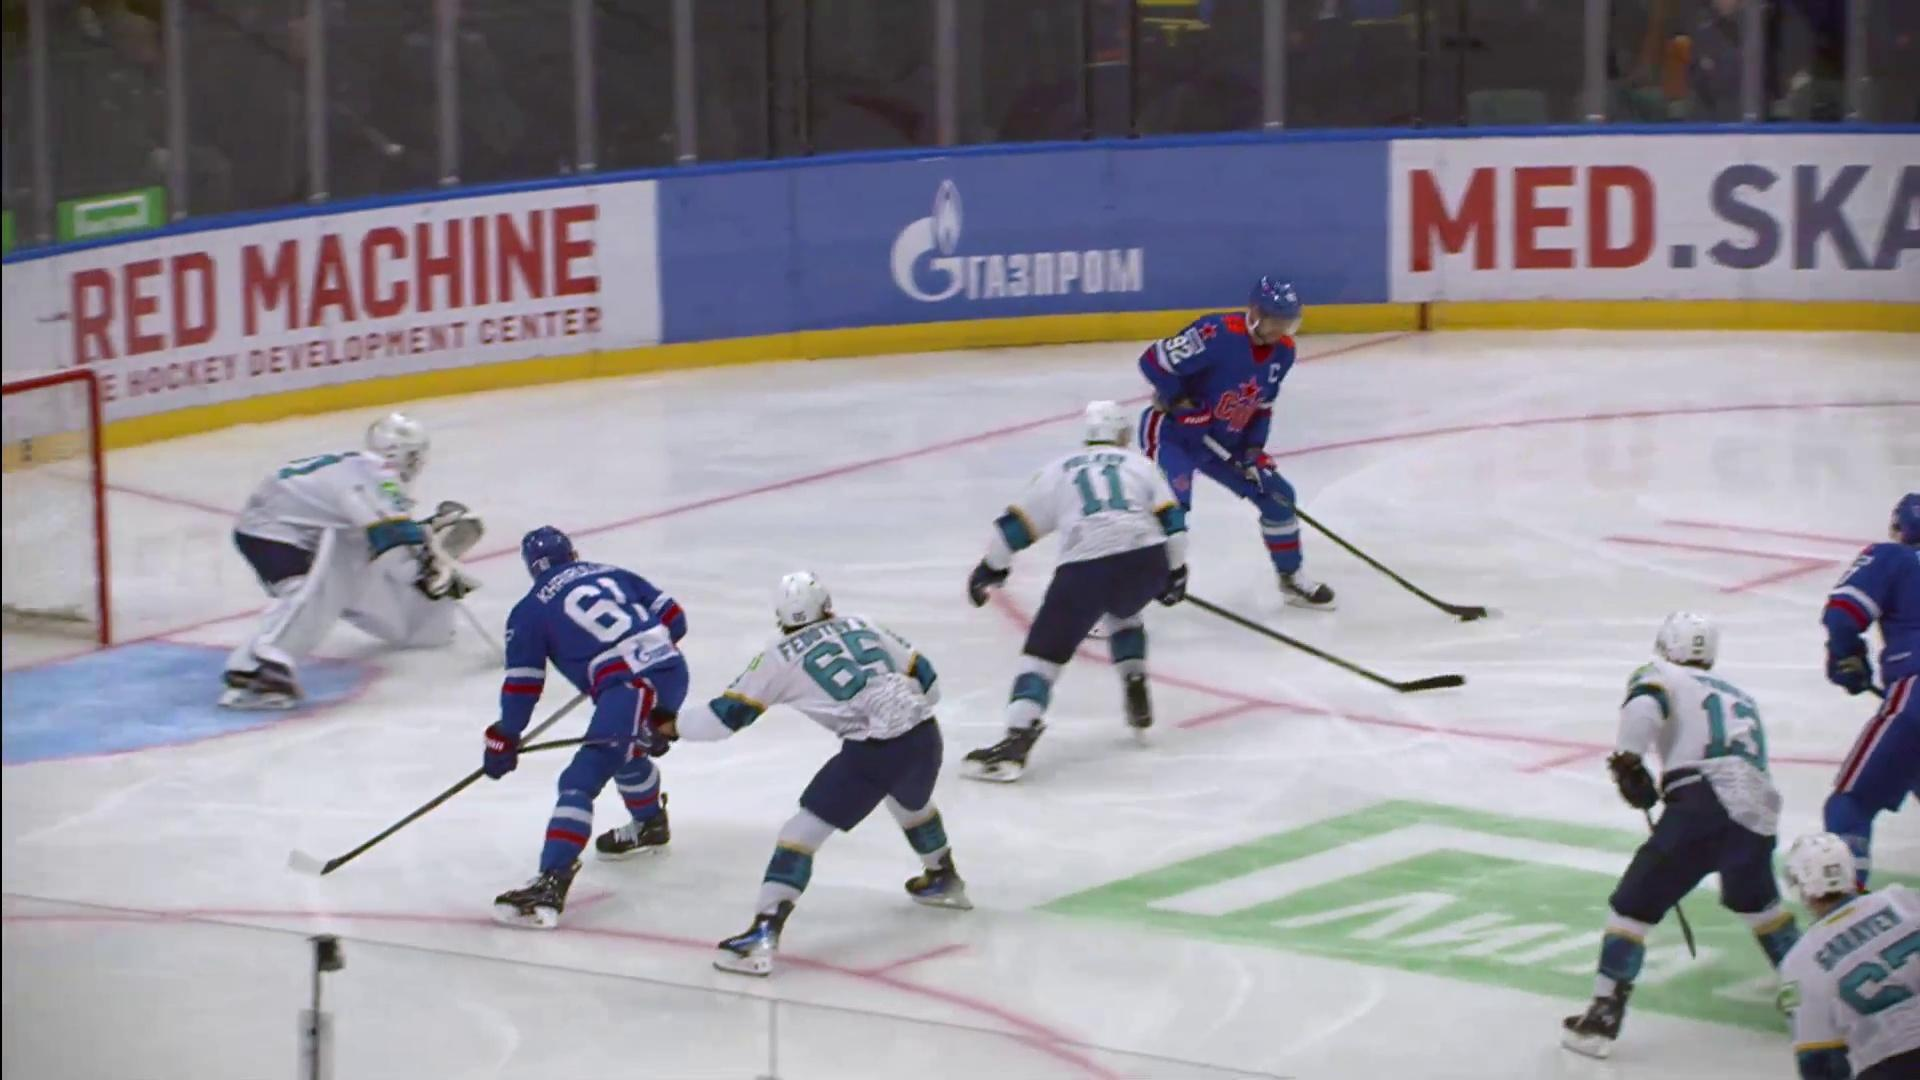ball: (1460, 613, 1480, 622)
